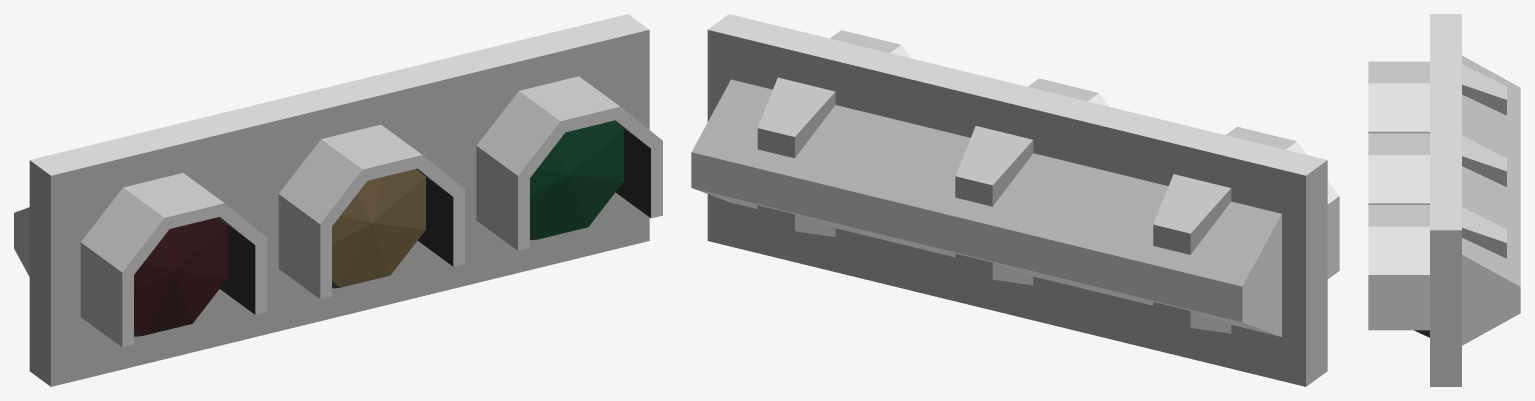
File: TB_CITY_Prop_TrafficLight_C_White.FBX
3 renders of one model, left to right at view 1: azimuth 30°, elevation 25°; view 2: azimuth 150°, elevation 25°; view 3: azimuth 270°, elevation 25°, orthographic. The views are drawn at different scales.
Visible parts, largest first — view 1: TB_CITY_Prop_TrafficLight_C_White; view 2: TB_CITY_Prop_TrafficLight_C_White; view 3: TB_CITY_Prop_TrafficLight_C_White.
Part boxes in pixels (left/top/right/bottom): TB_CITY_Prop_TrafficLight_C_White: left=14, top=14, right=662, bottom=386; TB_CITY_Prop_TrafficLight_C_White: left=691, top=14, right=1339, bottom=386; TB_CITY_Prop_TrafficLight_C_White: left=1368, top=14, right=1520, bottom=386.
Bounding box in the file's own units: 3.04 × 1.03 × 0.9038.
